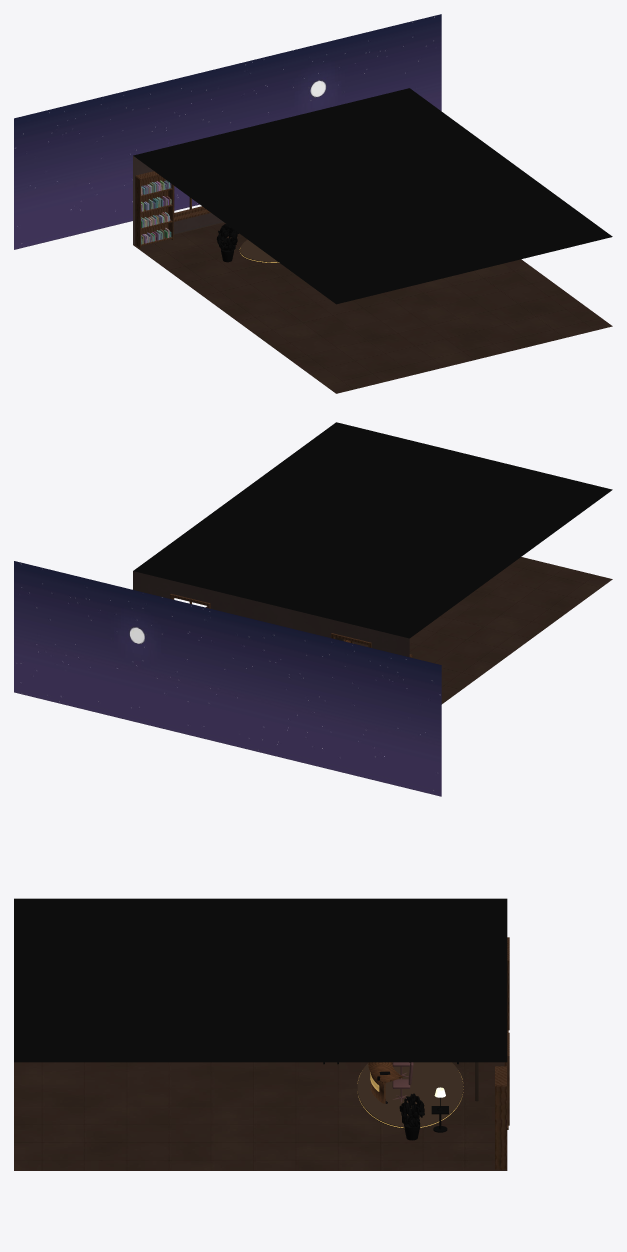
The model's file is newsroom-goodnight.glb.
3 views of the same model, one above another, from view 1: azimuth 30°, elevation 25°; view 2: azimuth 150°, elevation 25°; view 3: azimuth 270°, elevation 25° (orthographic). The views are drawn at different scales.
Visible parts, largest first — view 1: news_ceiling, news_sky, news_floor, news_shelves, news_backwall, news_books, news_plants; view 2: news_sky, news_ceiling, news_floor, news_backwall; view 3: news_ceiling, news_floor, news_riser, news_shelves, news_plants, news_backwall.
Part boxes in pixels (x1=…): news_ceiling: x1=133, y1=88, x2=612, y2=304; news_sky: x1=14, y1=14, x2=441, y2=249; news_floor: x1=133, y1=222, x2=612, y2=393; news_shelves: x1=135, y1=171, x2=173, y2=248; news_backwall: x1=133, y1=156, x2=224, y2=244; news_books: x1=141, y1=180, x2=171, y2=244; news_plants: x1=216, y1=224, x2=237, y2=262; news_sky: x1=14, y1=561, x2=441, y2=796; news_ceiling: x1=133, y1=422, x2=612, y2=638; news_floor: x1=205, y1=557, x2=612, y2=704; news_backwall: x1=133, y1=571, x2=409, y2=657; news_ceiling: x1=14, y1=898, x2=507, y2=1062; news_floor: x1=14, y1=1062, x2=507, y2=1170; news_riser: x1=357, y1=1062, x2=463, y2=1128; news_shelves: x1=495, y1=1066, x2=506, y2=1169; news_plants: x1=399, y1=1093, x2=424, y2=1140; news_backwall: x1=504, y1=937, x2=509, y2=1129.
Size of the model in its own units: 17 by 5 by 17.
Materials: 20 (7 with a texture image).
